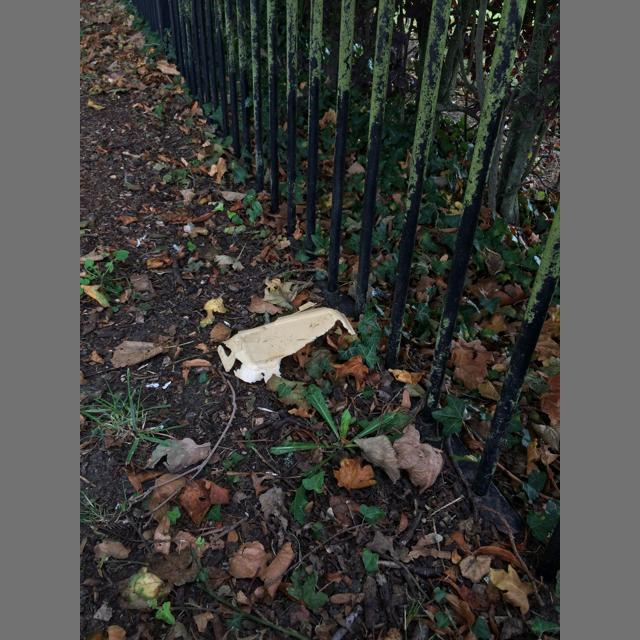litter: (218, 302, 356, 384)
